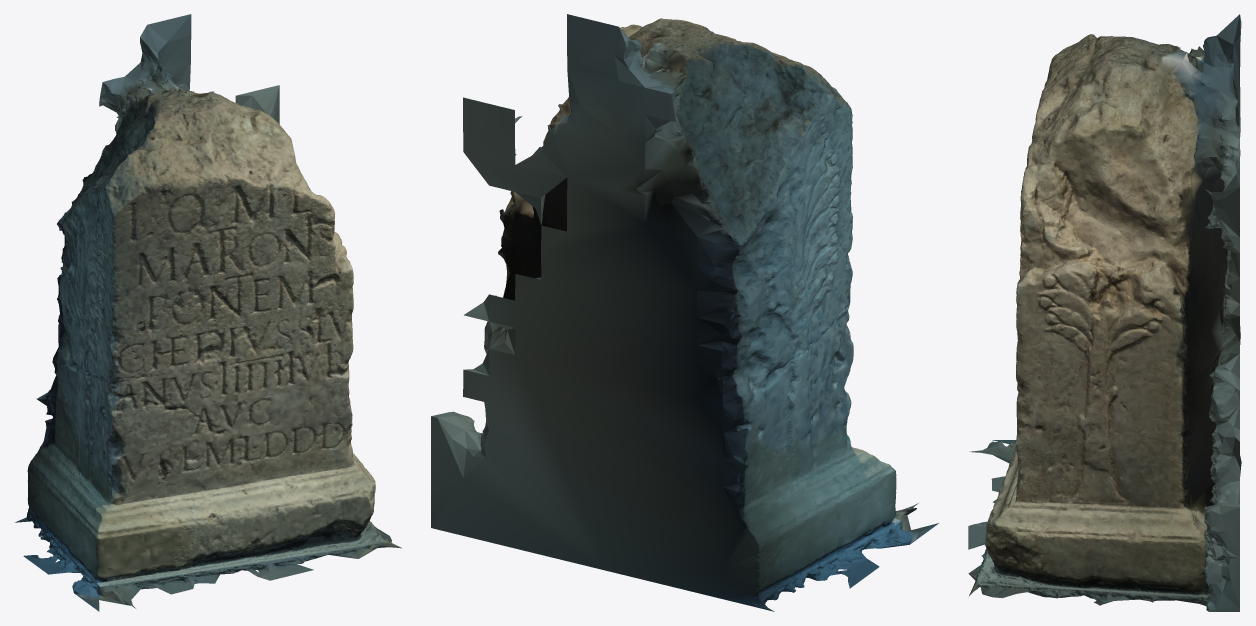
The model's file is weihesteine.glb.
The picture shows the model from 3 angles, left to right: view 1: azimuth 30°, elevation 25°; view 2: azimuth 150°, elevation 25°; view 3: azimuth 270°, elevation 25°; orthographic projection. The views are drawn at different scales.
Parts seen in each view (by area): view 1: Mesh_0_Part_0; view 2: Mesh_0_Part_0; view 3: Mesh_0_Part_0.
Boxes of the visible parts, x1=… form: Mesh_0_Part_0: x1=15, y1=14, x2=401, y2=611; Mesh_0_Part_0: x1=431, y1=14, x2=938, y2=611; Mesh_0_Part_0: x1=968, y1=14, x2=1241, y2=611.
Bounding box in the file's own units: 23.67 × 32.86 × 15.88.
